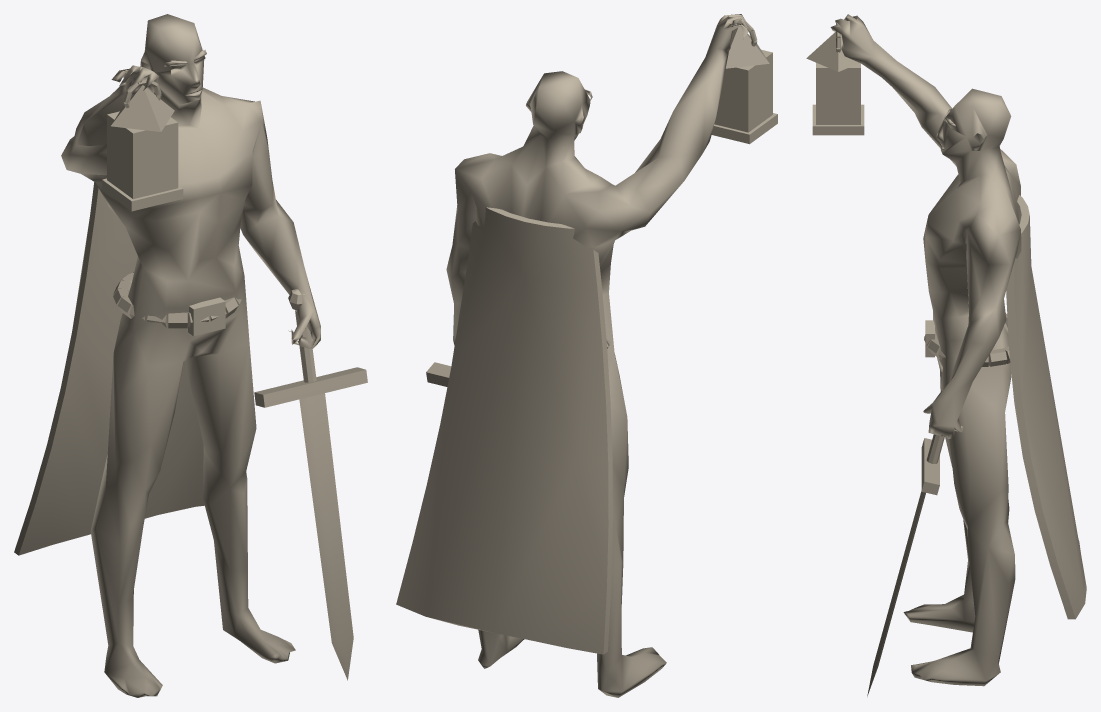
The model's file is hero_w4.glb.
The picture shows the model from 3 angles, left to right: view 1: azimuth 30°, elevation 25°; view 2: azimuth 150°, elevation 25°; view 3: azimuth 270°, elevation 25°; orthographic projection. The views are drawn at different scales.
Visible parts, largest first — view 1: HERO_W42; view 2: HERO_W42; view 3: HERO_W42.
Boxes of the visible parts, x1,y1,x2,y2 form: HERO_W42: [14, 14, 367, 697]; HERO_W42: [396, 14, 777, 697]; HERO_W42: [806, 14, 1086, 696].
Size of the model in its own units: 1.63 by 3.48 by 1.5.
